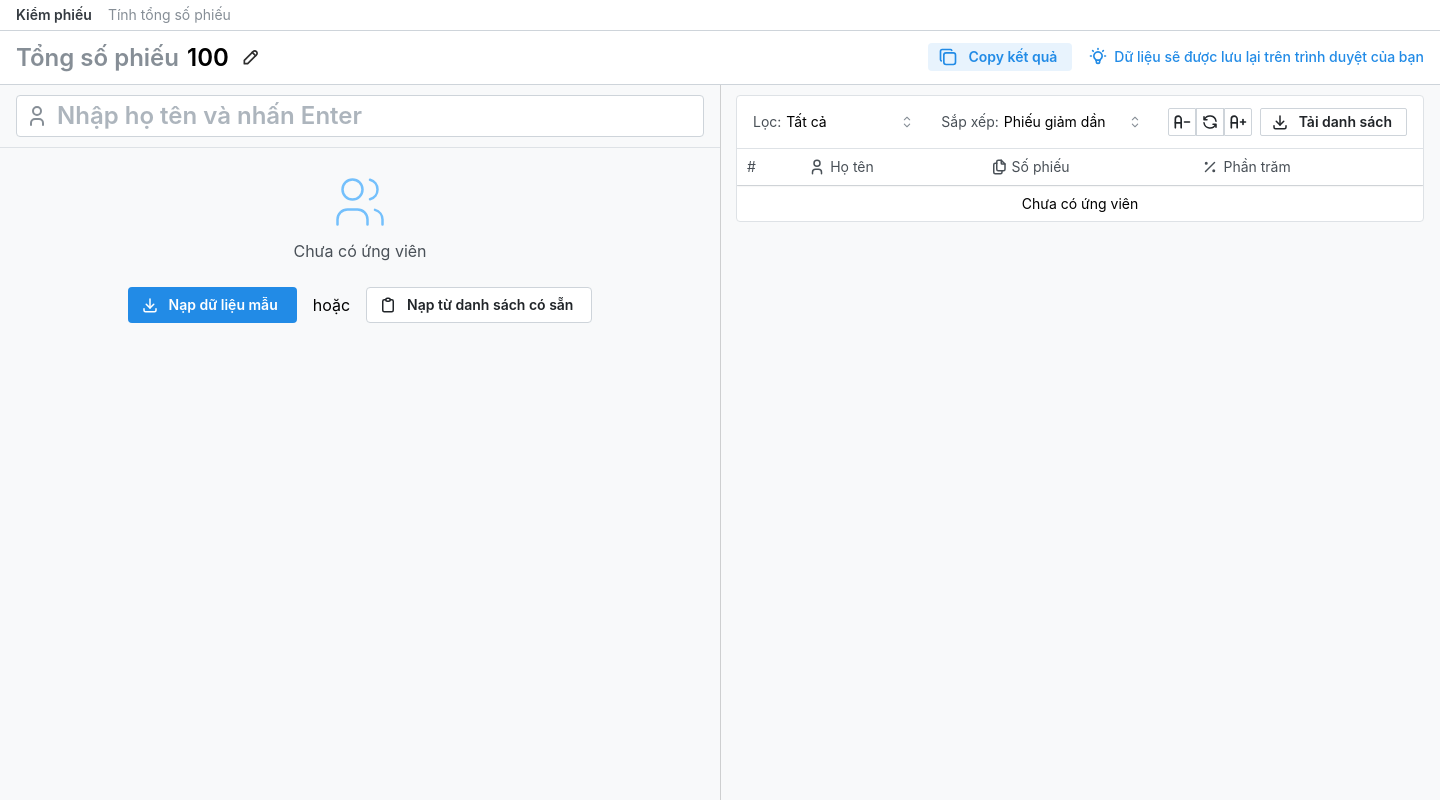
Test case: testing vote › can upvote and downvote
In the field with test id "new-candidate": [360, 116] box [16, 95, 704, 137], type "John Doe"
Then press Enter
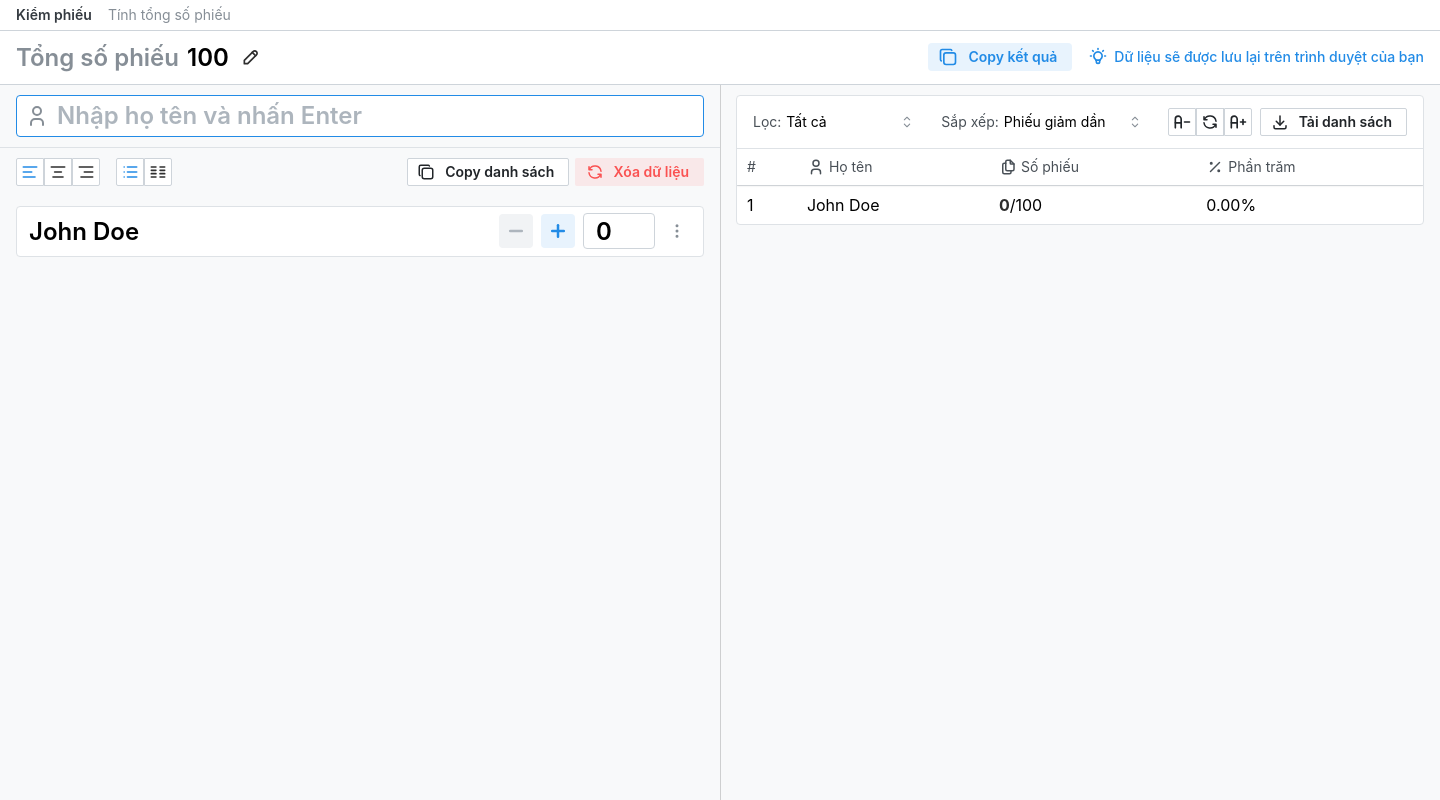
Result: the 4th field holds "0" at [583, 214, 655, 250]
Click the button named "Upvote by one": [558, 232] box [541, 215, 575, 249]
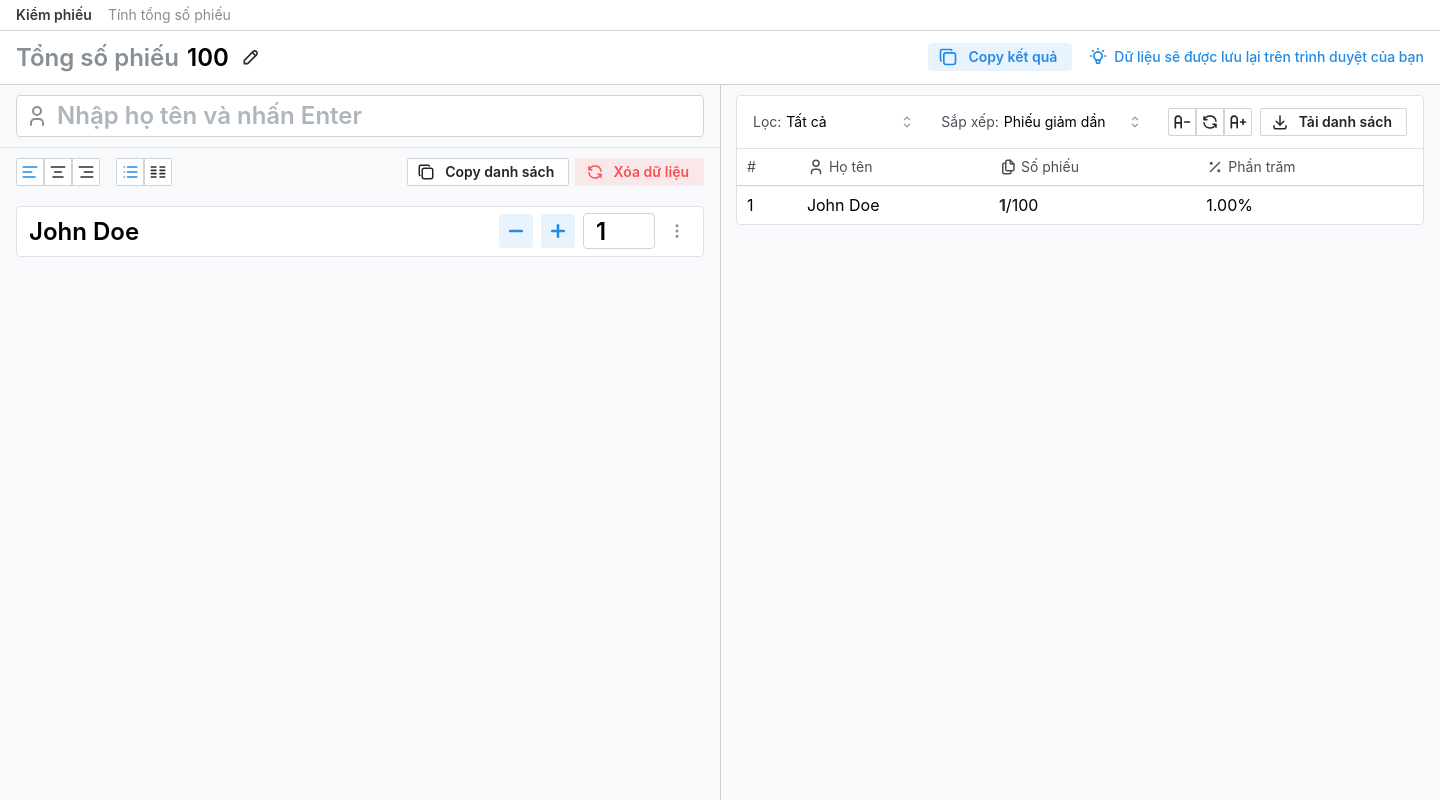
Result: the 4th field holds "1" at [583, 214, 655, 250]
Click the button named "Downvote by one": [516, 232] box [499, 215, 533, 249]
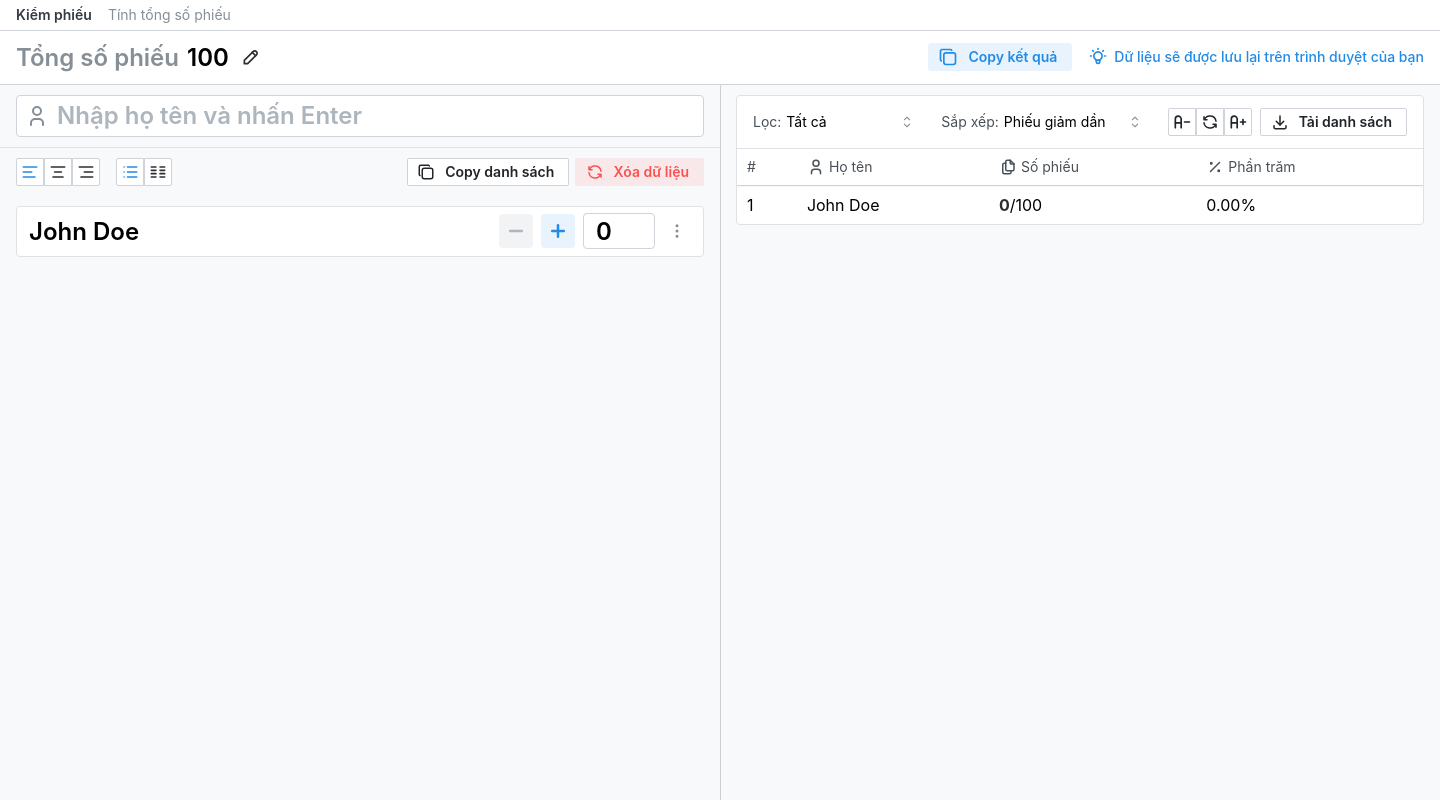
Result: the 4th field holds "0" at [583, 214, 655, 250]
